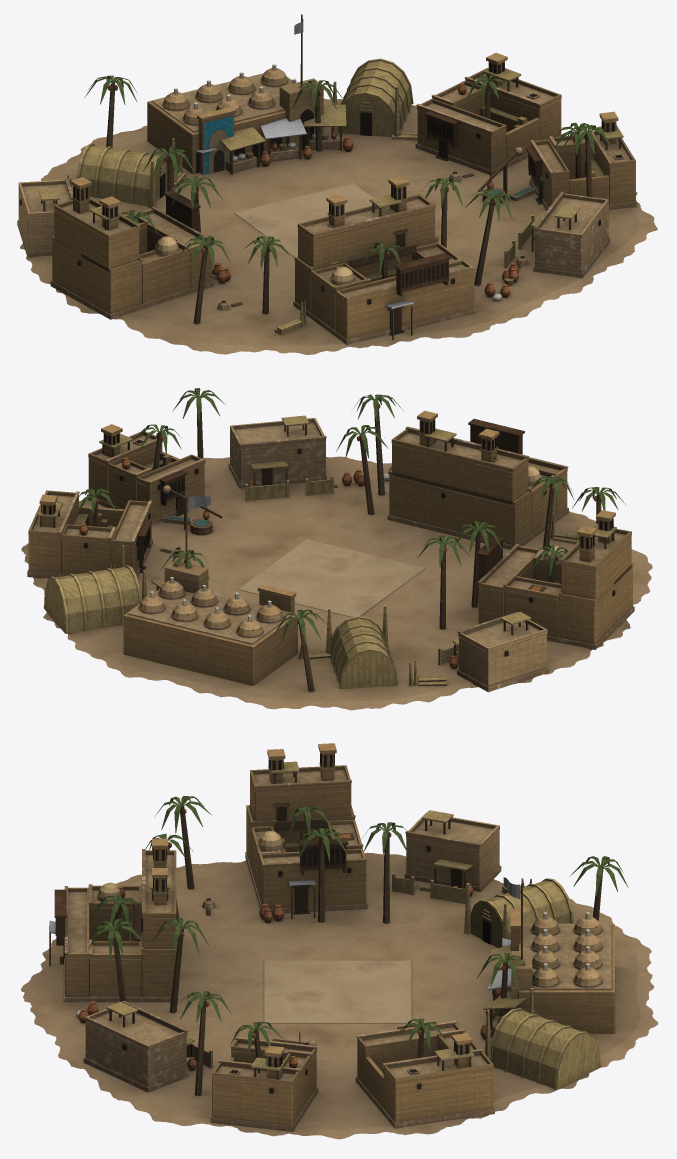
File: gunpowder-town-small-b-mesopotamia.glb
The picture shows the model from 3 angles, top to bottom: view 1: azimuth 30°, elevation 25°; view 2: azimuth 150°, elevation 25°; view 3: azimuth 270°, elevation 25°; orthographic projection. The views are drawn at different scales.
Parts seen in each view (by area): view 1: LOD0; view 2: LOD0; view 3: LOD0.
Part boxes in pixels (bbox=[...]): LOD0: bbox=[17, 14, 657, 354]; LOD0: bbox=[21, 388, 652, 710]; LOD0: bbox=[21, 743, 658, 1139].
Size of what is drawn, in the model's own units: 3.98 by 0.9099 by 3.71.
Materials: 3 (3 with a texture image).
